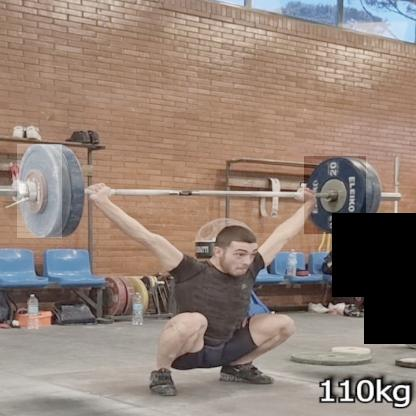barbell: (306, 157, 368, 235), (18, 145, 63, 239)
